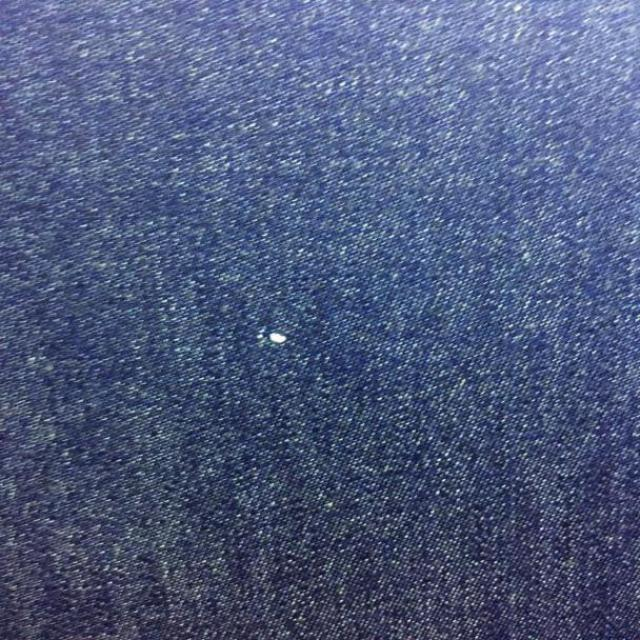Knot: (256, 329, 287, 346)
